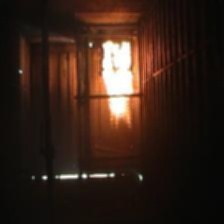fire: (98, 41, 140, 130)
